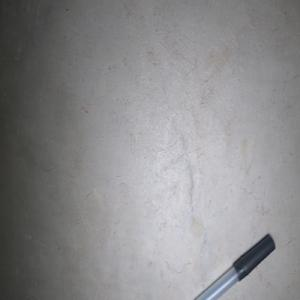Pen: (194, 234, 275, 300)
